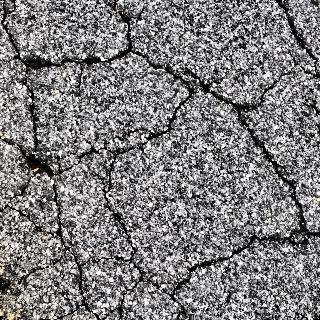alligator-crack: (4, 13, 314, 320)
